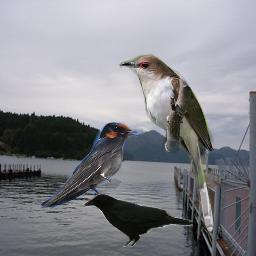Crow: (80, 191, 193, 247)
Cuckoo: (118, 54, 215, 233)
Swallow: (40, 122, 138, 208)
